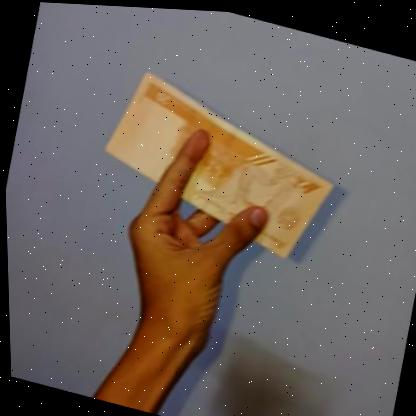twenty-back-vef: (87, 61, 348, 264)
